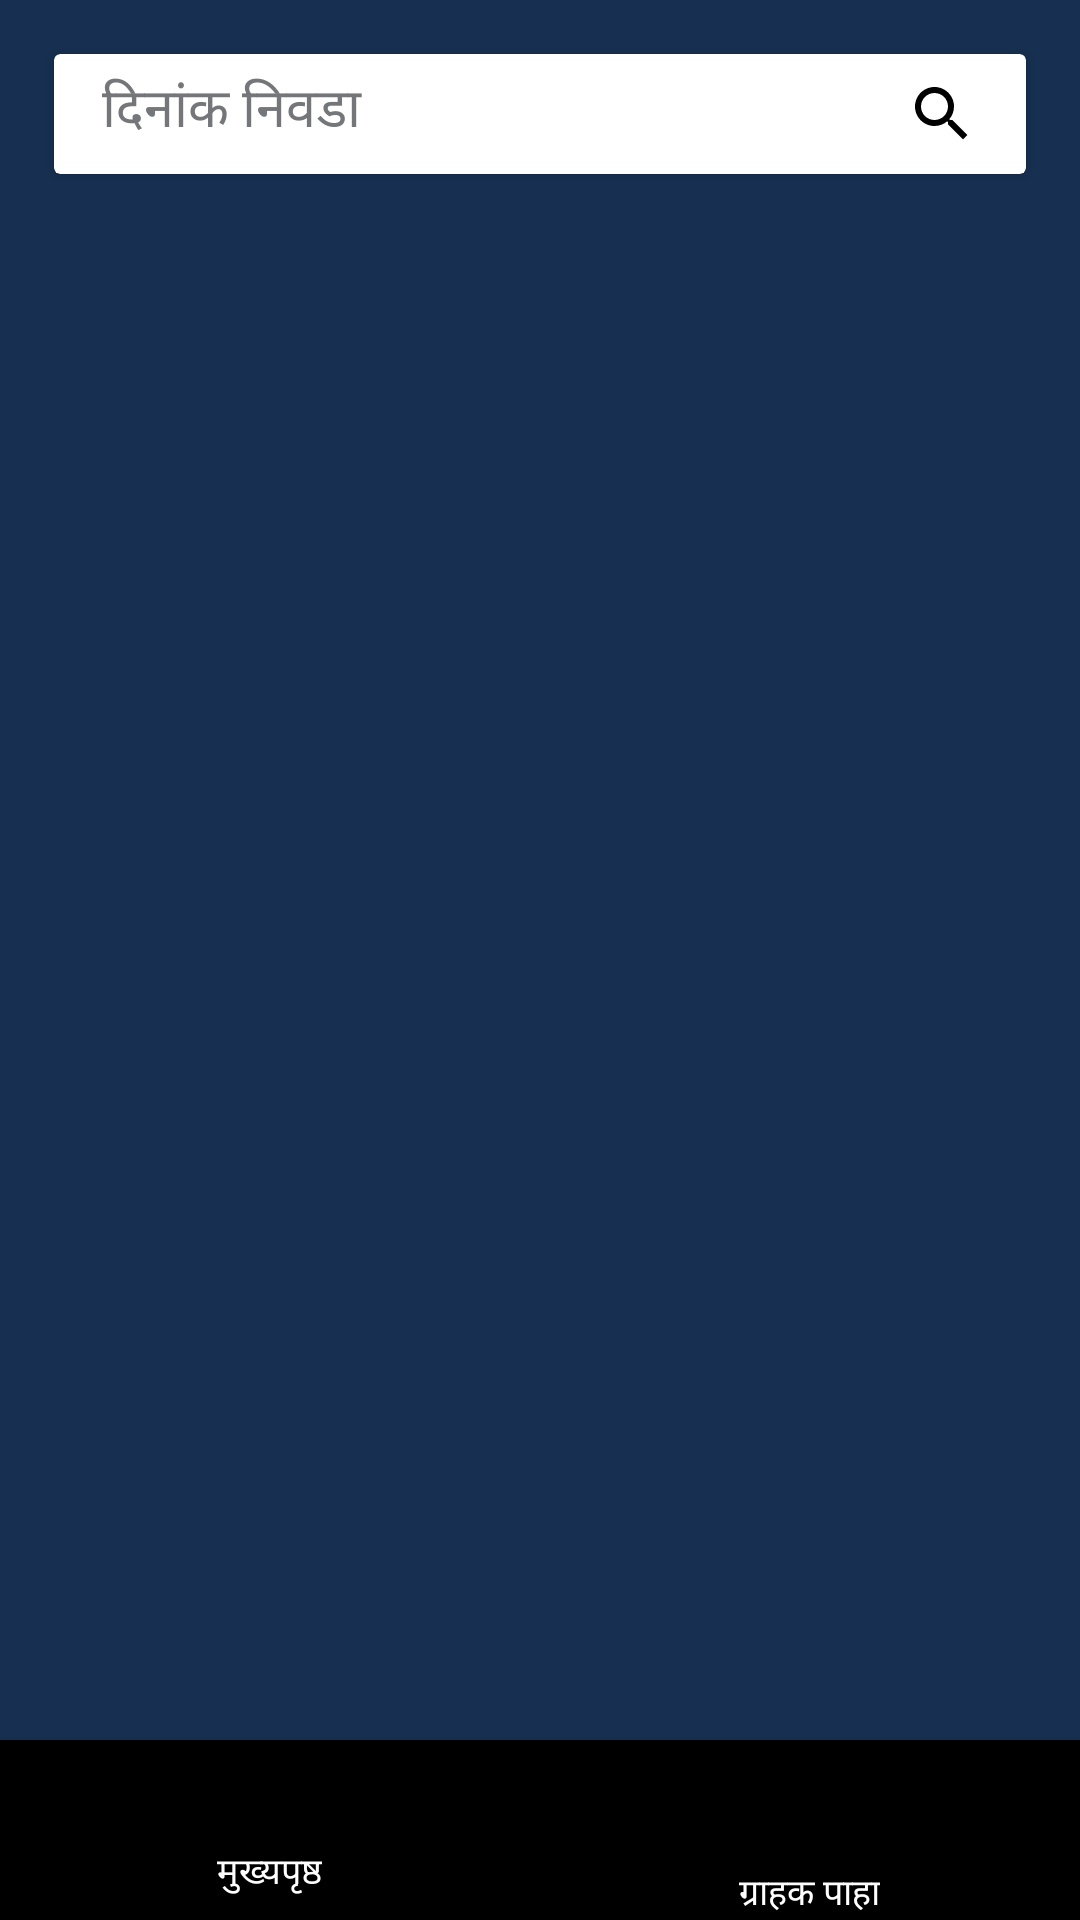

Point at icon controls on the screen. Image size 1080 x 1920, points as (x=x, y=y).
search: (x=941, y=113)
